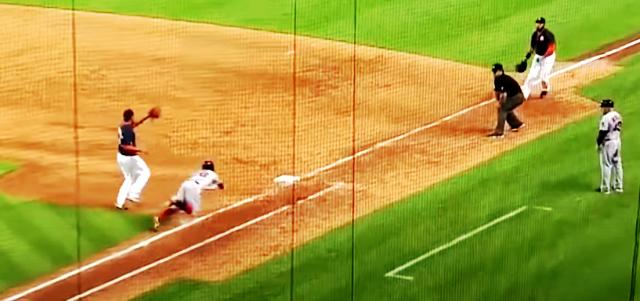jatuh: (148, 157, 228, 233)
